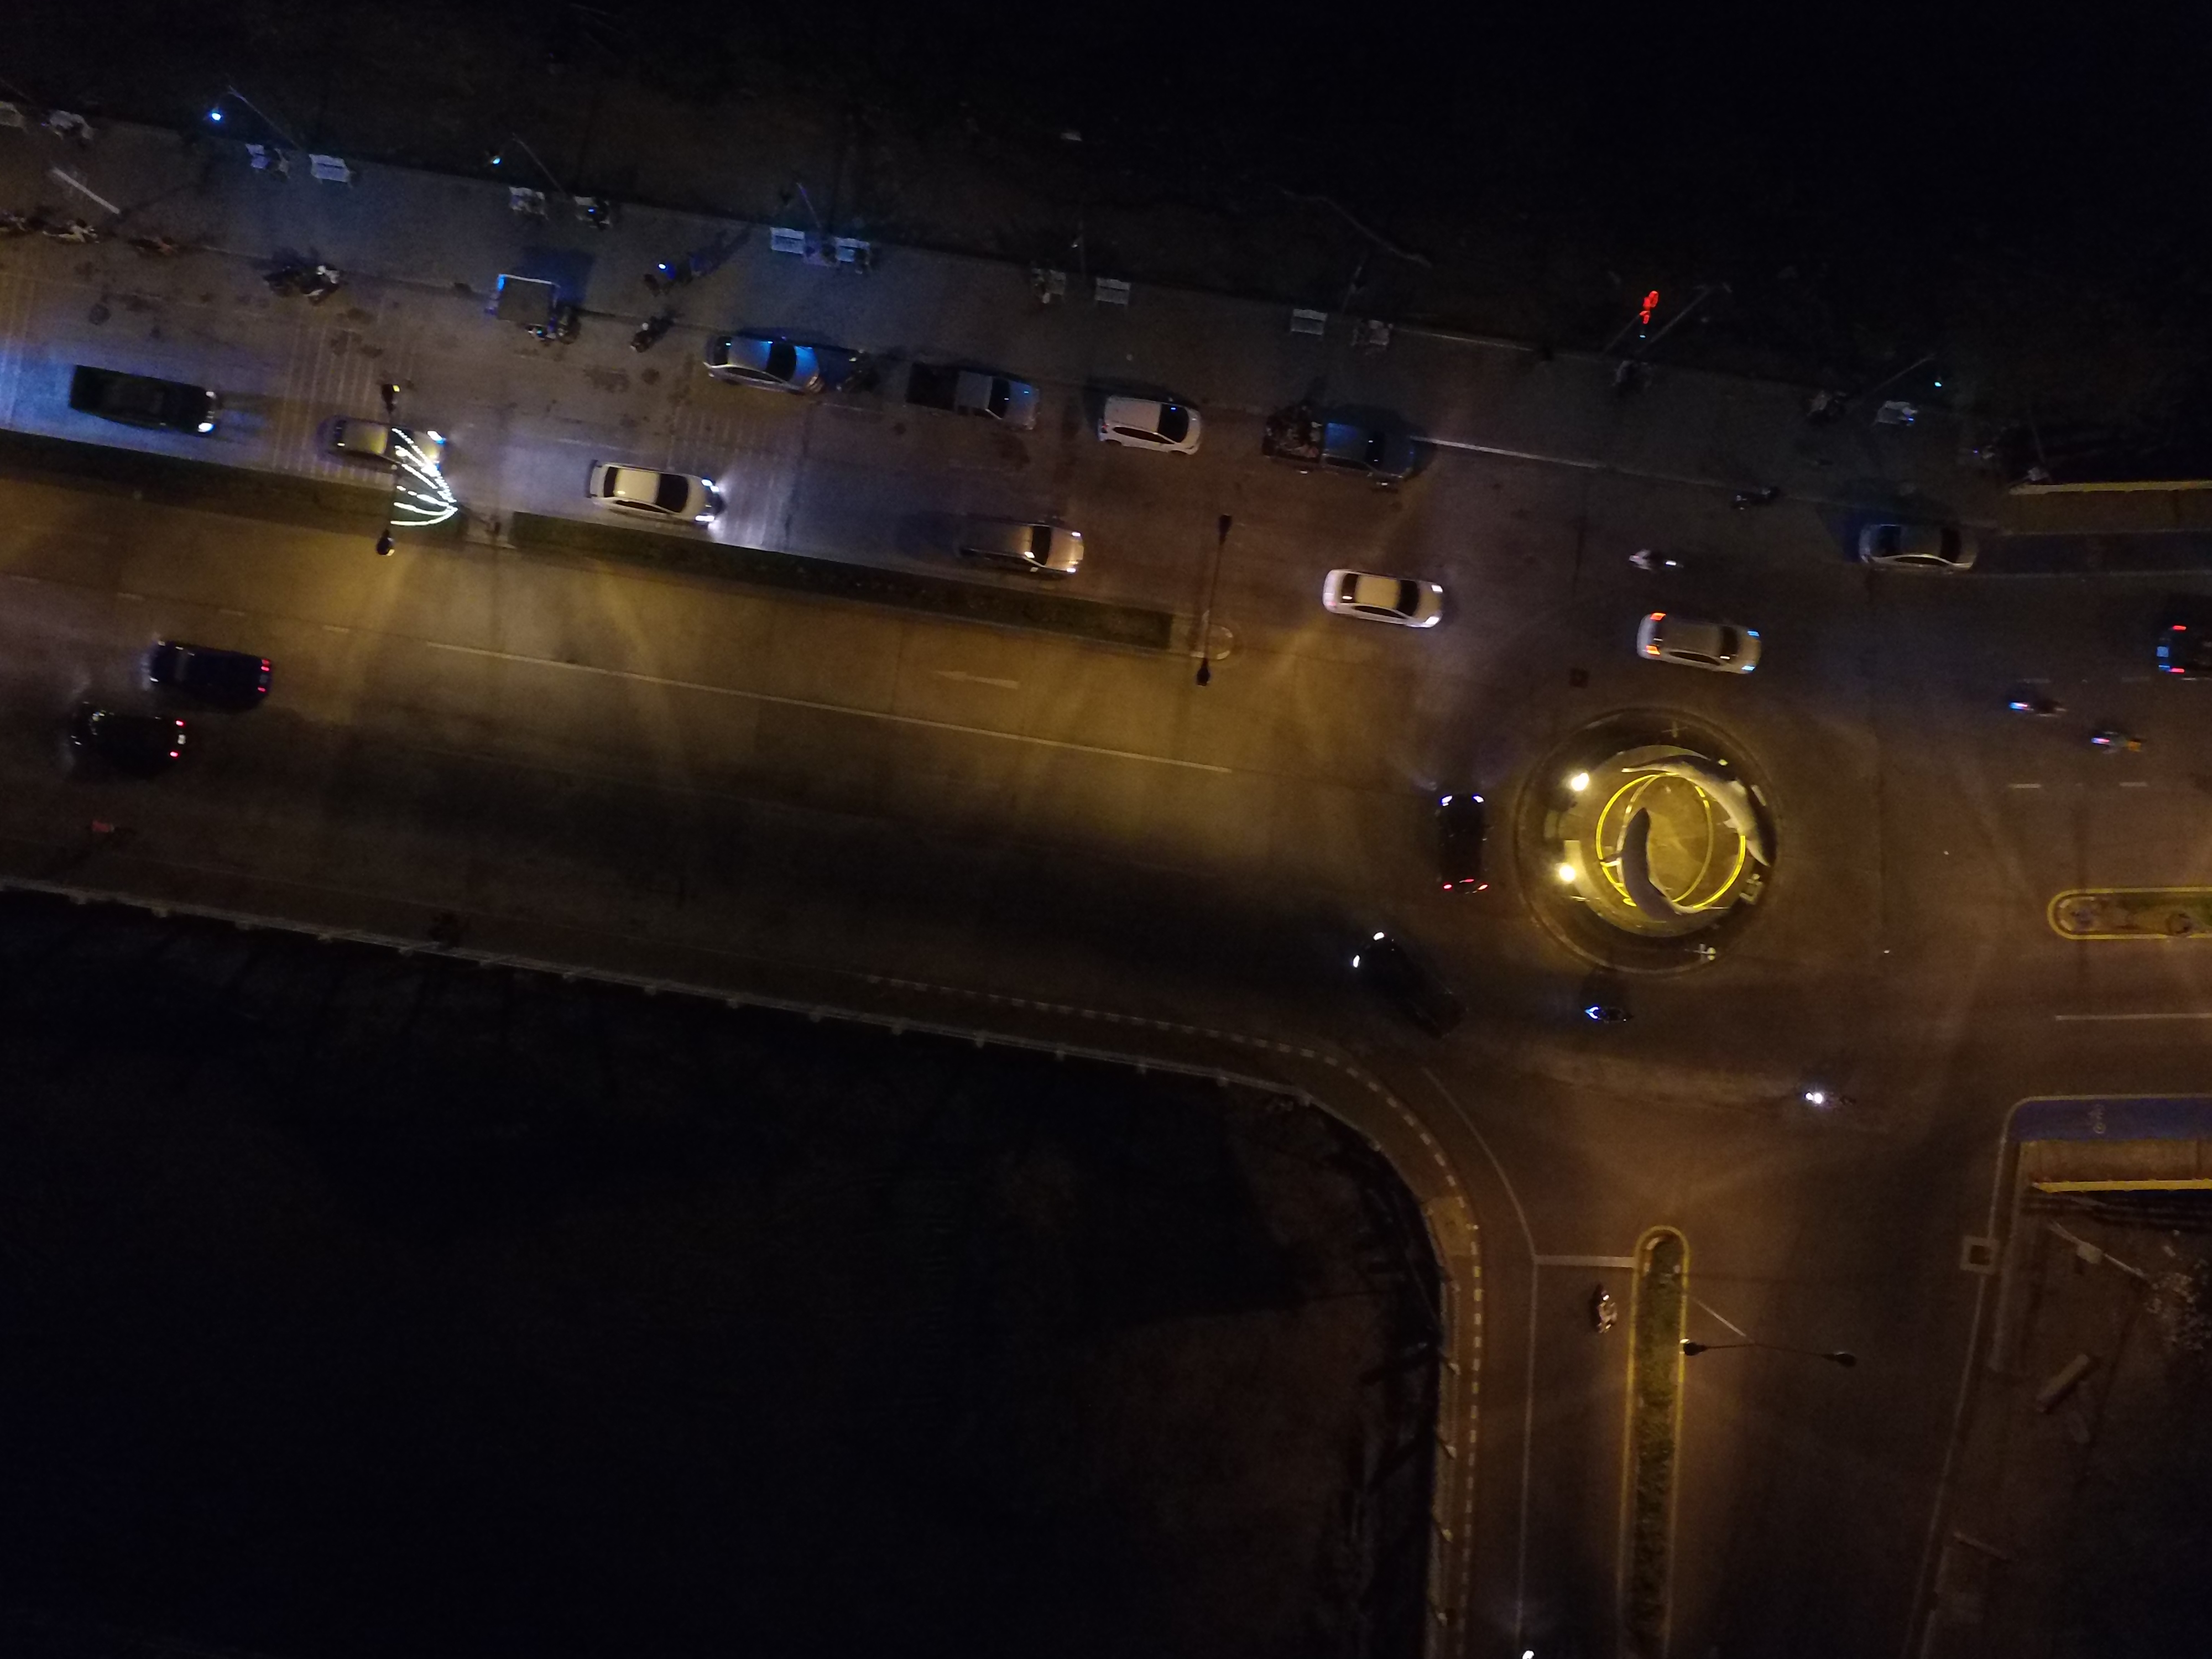car: (888, 207, 981, 352), (1442, 64, 1583, 153), (540, 63, 653, 173), (613, 73, 726, 183), (723, 124, 836, 234), (763, 216, 878, 324), (827, 96, 923, 225), (669, 101, 782, 209), (815, 429, 930, 535), (1291, 92, 1432, 178), (1404, 179, 1484, 328), (871, 586, 982, 683), (968, 455, 1050, 587), (87, 162, 176, 279), (165, 155, 254, 272), (1829, 354, 1909, 481), (1291, 460, 1374, 580), (1226, 451, 1308, 573), (1669, 390, 1749, 514), (834, 490, 937, 582), (465, 0, 599, 70), (934, 338, 1005, 469), (981, 209, 1062, 322), (1775, 362, 1850, 486), (794, 0, 909, 80), (850, 545, 951, 636), (921, 21, 996, 143), (1259, 230, 1325, 368), (1198, 237, 1264, 375), (812, 331, 909, 420), (1453, 427, 1526, 545), (1501, 415, 1575, 533), (1554, 399, 1627, 518), (1609, 397, 1683, 516), (789, 282, 890, 368), (798, 387, 894, 476), (752, 179, 853, 263), (1303, 213, 1369, 340), (996, 7, 1071, 118), (1357, 216, 1423, 342), (644, 5, 758, 78), (1902, 136, 1972, 254), (1789, 125, 1858, 244), (1514, 185, 1583, 303), (1456, 186, 1526, 305), (1843, 143, 1912, 260), (1740, 136, 1808, 254), (1616, 174, 1684, 293), (1566, 190, 1634, 308), (1684, 166, 1752, 282), (1716, 376, 1789, 483), (1775, 0, 1846, 103), (1402, 448, 1472, 551), (1350, 448, 1418, 552), (1676, 516, 1780, 584), (1353, 580, 1458, 648), (1892, 462, 1996, 528), (1782, 486, 1886, 552), (1569, 547, 1674, 613), (1454, 561, 1559, 627), (1892, 345, 1947, 457), (1618, 0, 1754, 45), (376, 24, 460, 91), (1083, 0, 1214, 42), (1844, 0, 1911, 82)
